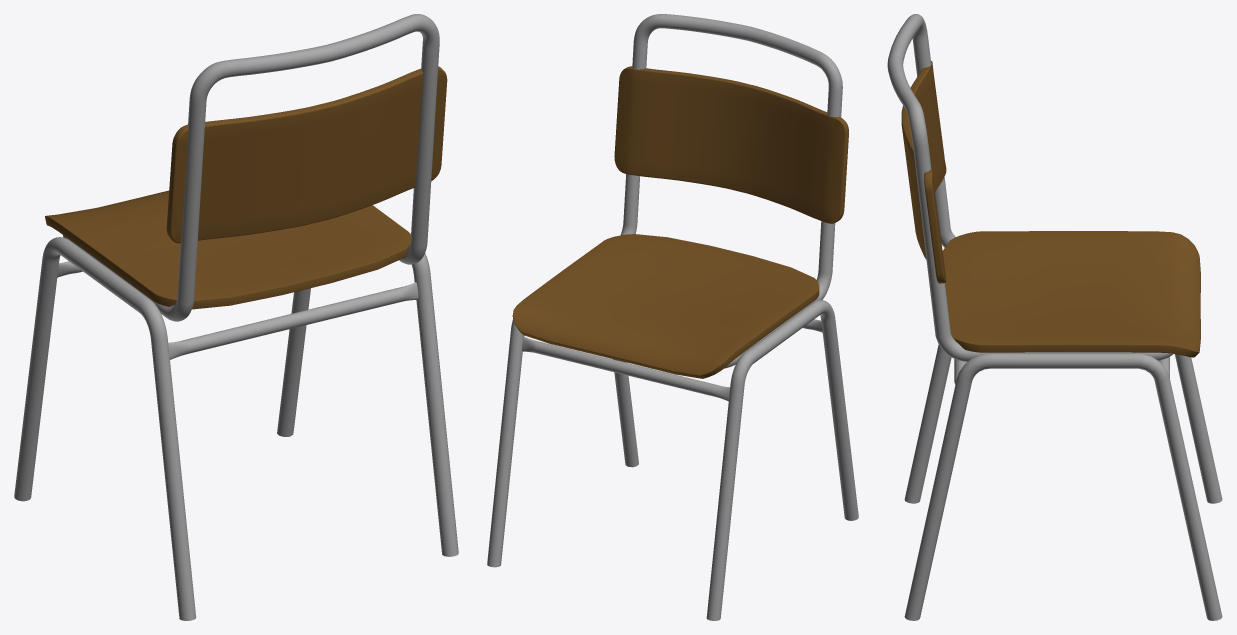
File: Silla.fbx
3 renders of one model, left to right at view 1: azimuth 30°, elevation 25°; view 2: azimuth 150°, elevation 25°; view 3: azimuth 270°, elevation 25°, orthographic. The views are drawn at different scales.
Parts seen in each view (by area): view 1: Silla_01; view 2: Silla_01; view 3: Silla_01.
Part boxes in pixels (<box>): Silla_01: <box>14,14,458,620</box>; Silla_01: <box>487,14,858,620</box>; Silla_01: <box>887,14,1222,620</box>.
Size of the model in its own units: 134 by 253 by 153.
